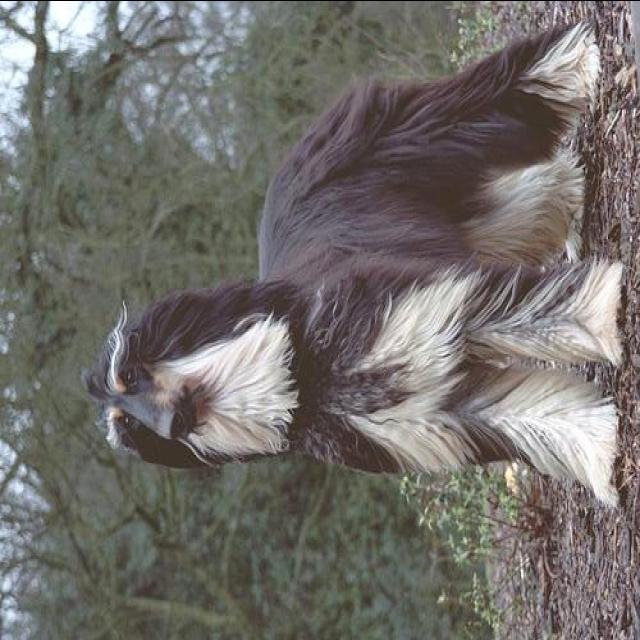afghan_hound: (79, 22, 625, 510)
